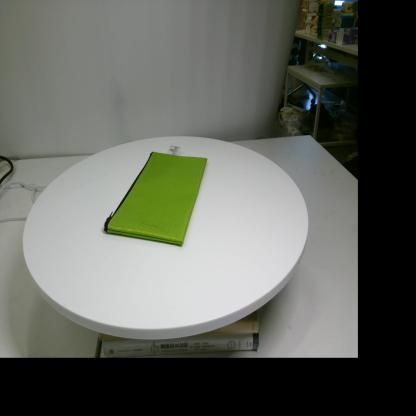Stationery: (104, 145, 208, 245)
